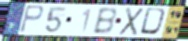1: (81, 8, 92, 33)
5: (45, 6, 69, 34)
B: (91, 7, 118, 36)
D: (138, 7, 169, 37)
P: (18, 4, 45, 34)
X: (117, 6, 146, 36)
